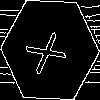X: (25, 25, 75, 76)
